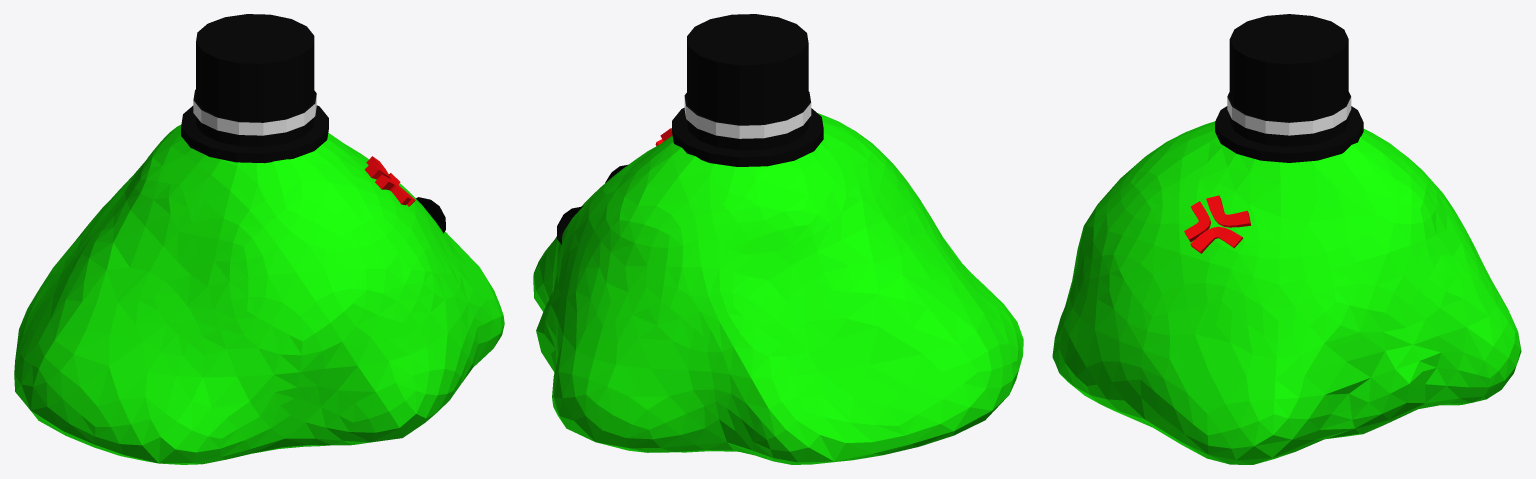
The model's file is SlimeTopHat1.fbx.
3 views of the same model, side by side, from view 1: azimuth 30°, elevation 25°; view 2: azimuth 150°, elevation 25°; view 3: azimuth 270°, elevation 25° (orthographic). The views are drawn at different scales.
Parts seen in each view (by area): view 1: SLIME.003; view 2: SLIME.003; view 3: SLIME.003.
Part boxes in pixels (left/top/right/bottom): SLIME.003: left=14, top=14, right=504, bottom=464; SLIME.003: left=533, top=14, right=1023, bottom=464; SLIME.003: left=1052, top=14, right=1521, bottom=464.
Bounding box in the file's own units: 111 × 80.45 × 100.
